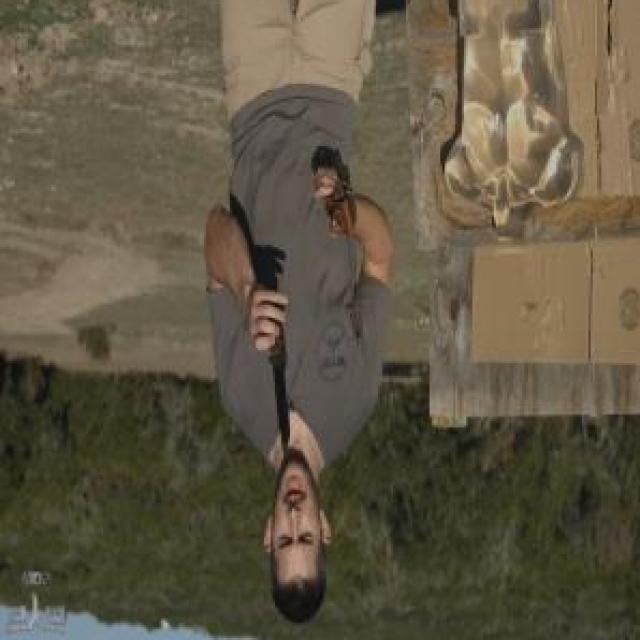knife: (247, 291, 297, 470)
